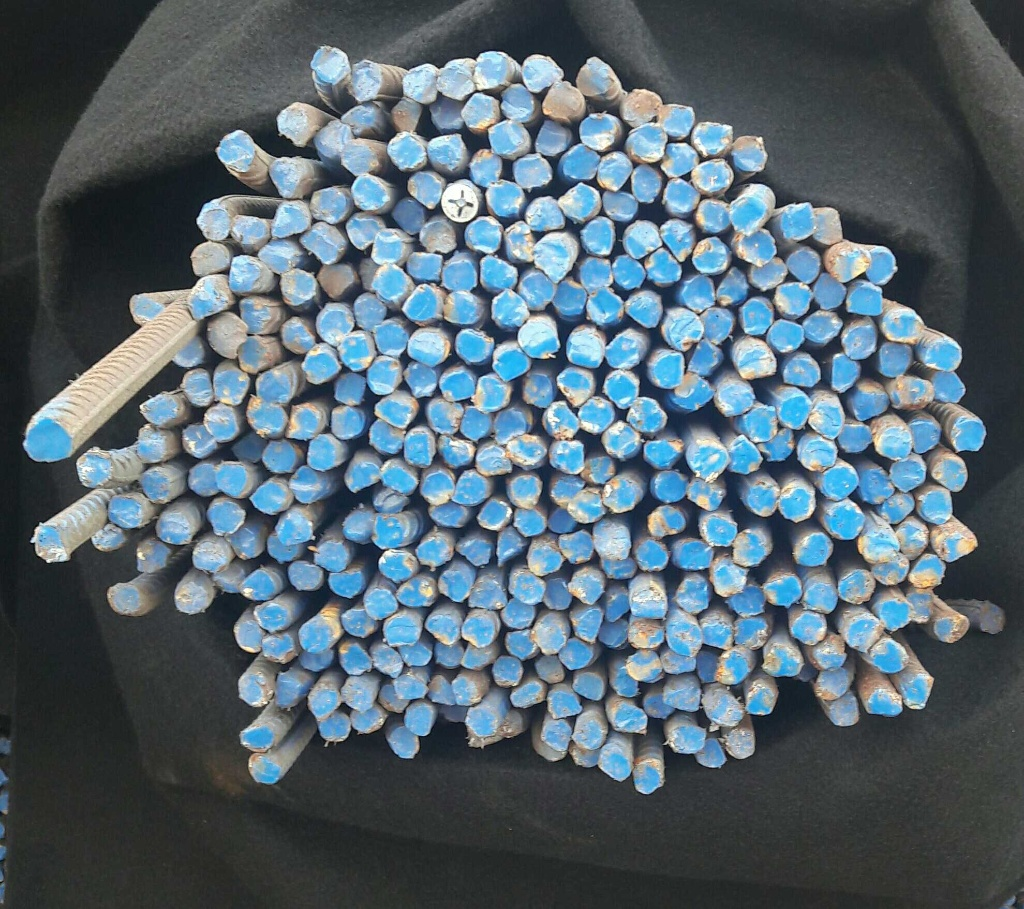dipstick: (24, 418, 71, 462), (207, 312, 249, 359), (301, 223, 347, 264), (663, 310, 704, 351), (316, 303, 354, 346), (216, 130, 255, 171), (664, 307, 702, 349), (189, 279, 228, 319), (623, 220, 662, 260), (533, 240, 574, 278), (212, 362, 249, 404), (542, 82, 584, 119), (247, 399, 286, 438), (522, 55, 561, 94), (490, 120, 530, 158), (829, 243, 869, 281), (271, 200, 310, 238), (575, 56, 613, 95), (692, 237, 731, 275), (518, 322, 559, 358), (603, 421, 641, 459), (316, 120, 353, 159), (290, 466, 329, 503), (427, 133, 464, 172), (557, 368, 594, 407), (622, 89, 661, 126), (75, 450, 115, 486), (631, 123, 667, 163), (408, 330, 449, 365), (403, 63, 438, 104), (388, 132, 426, 169), (239, 296, 277, 333), (461, 93, 499, 130), (500, 83, 537, 121), (579, 114, 617, 151), (542, 401, 579, 439), (577, 396, 614, 434), (628, 397, 665, 435), (626, 290, 664, 327), (137, 424, 173, 463), (489, 178, 525, 217), (524, 196, 565, 230), (341, 141, 383, 174), (456, 328, 493, 365), (437, 62, 474, 99), (730, 197, 767, 234), (311, 47, 349, 83), (351, 174, 389, 210), (822, 464, 860, 500), (848, 616, 884, 654), (310, 188, 349, 223), (140, 394, 184, 425), (693, 159, 733, 193), (884, 309, 924, 343), (348, 60, 381, 101), (936, 529, 977, 562), (467, 216, 503, 253), (597, 153, 633, 190), (693, 443, 730, 479), (644, 248, 681, 284), (689, 339, 725, 376), (827, 504, 864, 540), (228, 256, 263, 294), (205, 404, 240, 442), (35, 524, 70, 562), (586, 291, 624, 326), (352, 293, 386, 332), (581, 216, 615, 255), (736, 230, 775, 264), (259, 243, 303, 273), (563, 144, 599, 180), (408, 172, 443, 209), (474, 52, 509, 89), (593, 523, 630, 558), (282, 316, 316, 354), (437, 433, 475, 467), (480, 256, 518, 290), (560, 185, 598, 219), (237, 334, 270, 373), (687, 477, 726, 510), (749, 256, 788, 289), (155, 511, 195, 543), (859, 532, 900, 563), (662, 142, 698, 177), (931, 456, 967, 491), (520, 274, 554, 311), (781, 202, 815, 239), (813, 273, 847, 310), (846, 283, 883, 317), (775, 282, 812, 316), (277, 104, 310, 142), (276, 511, 314, 544), (508, 435, 546, 468), (604, 371, 637, 409), (695, 123, 733, 156), (701, 307, 734, 345), (128, 293, 167, 325), (738, 347, 777, 379), (783, 353, 822, 385), (792, 534, 831, 566), (763, 645, 803, 676), (183, 423, 218, 458), (428, 398, 463, 433), (403, 286, 438, 321), (475, 375, 510, 410), (567, 333, 602, 368), (812, 635, 847, 670), (280, 269, 316, 303), (256, 371, 292, 405), (372, 265, 406, 301), (238, 673, 274, 707), (494, 291, 528, 327), (191, 242, 228, 275), (469, 149, 502, 186), (630, 585, 667, 618), (852, 386, 889, 419), (183, 369, 215, 407), (648, 505, 686, 537), (788, 247, 820, 285), (799, 438, 837, 470), (815, 667, 853, 699), (513, 155, 552, 186), (370, 419, 405, 453), (392, 199, 426, 234), (664, 179, 699, 213), (926, 337, 961, 371), (667, 623, 703, 656), (602, 479, 638, 512), (711, 564, 747, 597), (613, 254, 646, 290), (733, 136, 766, 172), (716, 385, 752, 418), (340, 334, 372, 371), (318, 264, 355, 296), (107, 496, 144, 528), (250, 482, 287, 514), (346, 216, 383, 248), (577, 257, 614, 289), (730, 436, 762, 473), (838, 571, 875, 603), (920, 489, 952, 526), (444, 292, 482, 323), (894, 379, 932, 410), (271, 158, 301, 197), (866, 246, 895, 286), (331, 405, 365, 439), (374, 322, 408, 356), (660, 103, 694, 137), (232, 213, 267, 246), (209, 501, 244, 534), (367, 359, 400, 394), (442, 258, 477, 291), (682, 275, 715, 310), (877, 343, 912, 376), (745, 483, 780, 516), (303, 352, 339, 384), (299, 621, 335, 653), (439, 370, 475, 402), (373, 229, 405, 265), (629, 616, 665, 648), (665, 681, 701, 713), (745, 406, 777, 442), (339, 102, 380, 130), (192, 540, 229, 571), (493, 349, 530, 380), (811, 207, 842, 244), (734, 618, 771, 649), (872, 552, 909, 583), (877, 492, 914, 523), (627, 652, 665, 682), (397, 579, 436, 608), (506, 221, 535, 260), (803, 310, 842, 339), (730, 586, 769, 615), (263, 440, 297, 473), (421, 472, 455, 505), (740, 299, 773, 333), (859, 470, 893, 503), (910, 554, 944, 587), (174, 581, 209, 613), (342, 677, 377, 709), (404, 362, 436, 397), (408, 250, 443, 282), (718, 268, 750, 303), (420, 221, 456, 252), (493, 410, 529, 441), (707, 695, 743, 726), (871, 642, 907, 673), (375, 398, 413, 427), (140, 470, 173, 503), (216, 463, 249, 496), (370, 641, 403, 674), (478, 498, 511, 531), (933, 370, 966, 403), (388, 725, 420, 759), (454, 472, 488, 504), (550, 440, 582, 474), (604, 190, 638, 222), (780, 489, 814, 521), (735, 532, 767, 566), (570, 491, 605, 522), (675, 583, 710, 614), (652, 470, 687, 501), (702, 515, 737, 546), (766, 576, 801, 607), (890, 460, 925, 491), (471, 579, 507, 609), (833, 351, 860, 391), (791, 613, 827, 643), (646, 439, 684, 467), (107, 582, 140, 614), (372, 516, 404, 549), (554, 282, 587, 314), (635, 539, 668, 571), (607, 337, 640, 369), (698, 199, 730, 232), (843, 326, 875, 359), (878, 427, 911, 459), (897, 525, 930, 557), (953, 419, 986, 451), (267, 530, 301, 561), (560, 531, 594, 562), (840, 422, 874, 453), (910, 419, 941, 453), (384, 616, 420, 645), (632, 165, 660, 202), (199, 208, 231, 240), (334, 373, 366, 405), (573, 718, 605, 750), (772, 320, 804, 352), (778, 396, 810, 428), (288, 406, 319, 439), (255, 600, 288, 631), (234, 619, 265, 652), (523, 374, 554, 407), (136, 541, 170, 571), (241, 570, 275, 600), (346, 462, 380, 492), (715, 654, 749, 684), (500, 599, 535, 628), (699, 622, 735, 650), (189, 463, 220, 495), (316, 541, 348, 572), (404, 703, 435, 735), (509, 476, 541, 507), (560, 638, 592, 669), (426, 615, 459, 645), (462, 617, 495, 647), (552, 475, 585, 505), (570, 573, 603, 603), (653, 355, 683, 388), (805, 583, 838, 613), (248, 756, 282, 785), (904, 675, 933, 709), (308, 436, 336, 471), (670, 725, 705, 753), (342, 610, 378, 637), (405, 430, 432, 466), (475, 448, 512, 474), (675, 542, 712, 568), (468, 706, 499, 737), (344, 511, 374, 543), (438, 571, 470, 601), (459, 409, 491, 439), (380, 552, 413, 581), (365, 590, 398, 619), (506, 629, 539, 658), (542, 719, 571, 752), (614, 704, 647, 733), (288, 561, 322, 589), (383, 466, 417, 494), (350, 705, 384, 733), (867, 690, 902, 717), (456, 538, 492, 564), (309, 687, 340, 717), (341, 643, 371, 674), (573, 671, 604, 701), (830, 694, 860, 725), (512, 508, 545, 536), (574, 608, 602, 641), (510, 681, 545, 707), (240, 727, 276, 752), (493, 656, 523, 686), (600, 750, 630, 780), (379, 684, 410, 713), (530, 545, 561, 574), (543, 579, 572, 610), (633, 765, 664, 794), (880, 601, 911, 630), (512, 576, 545, 603), (613, 663, 640, 696), (936, 617, 970, 643), (329, 571, 364, 596), (535, 622, 564, 652), (697, 739, 727, 768), (726, 729, 755, 759), (747, 687, 778, 715), (417, 540, 450, 566), (548, 691, 581, 717), (320, 712, 349, 741), (644, 691, 675, 718), (906, 591, 933, 622), (394, 675, 428, 699), (429, 675, 456, 705), (434, 641, 464, 668), (536, 655, 565, 682), (400, 642, 432, 666), (453, 676, 480, 704), (978, 604, 1004, 633)
